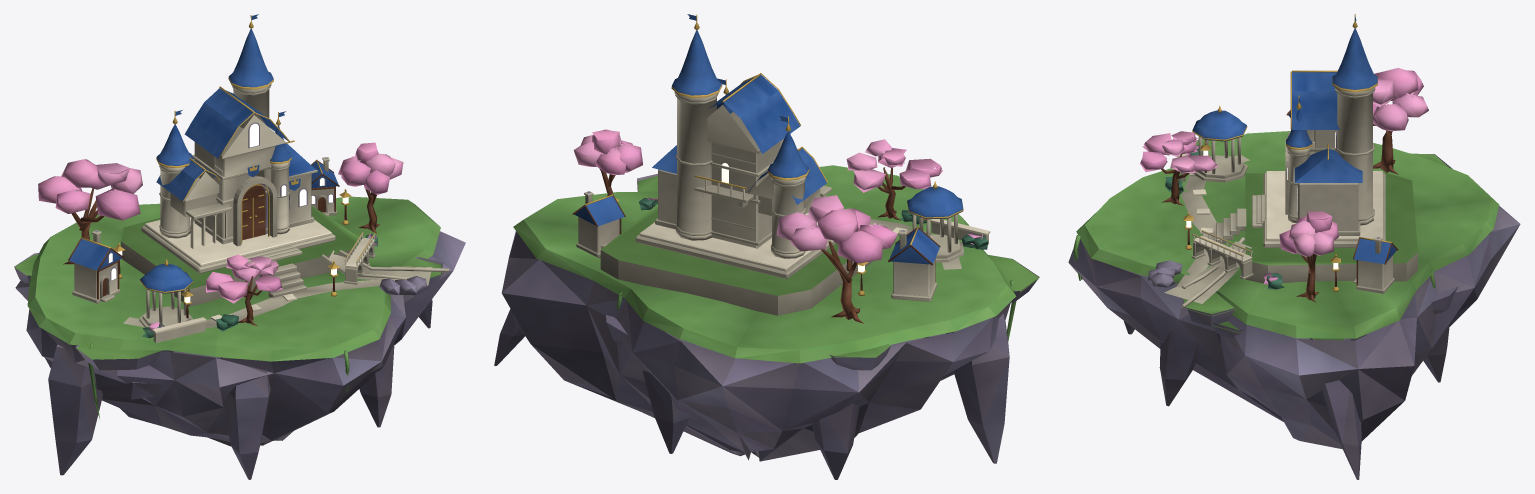
The model's file is royal-island-right-v4-low.glb.
The picture shows the model from 3 angles, left to right: view 1: azimuth 30°, elevation 25°; view 2: azimuth 150°, elevation 25°; view 3: azimuth 270°, elevation 25°; orthographic projection. The views are drawn at different scales.
Parts seen in each view (by area): view 1: royal-island-right-v4; view 2: royal-island-right-v4; view 3: royal-island-right-v4.
Boxes of the visible parts, x1,y1,x2,y2 form: royal-island-right-v4: [14, 14, 465, 479]; royal-island-right-v4: [494, 14, 1039, 479]; royal-island-right-v4: [1068, 14, 1520, 479].
Size of the model in its own units: 18.34 by 16.74 by 15.98.
10 materials, 10 textured.
